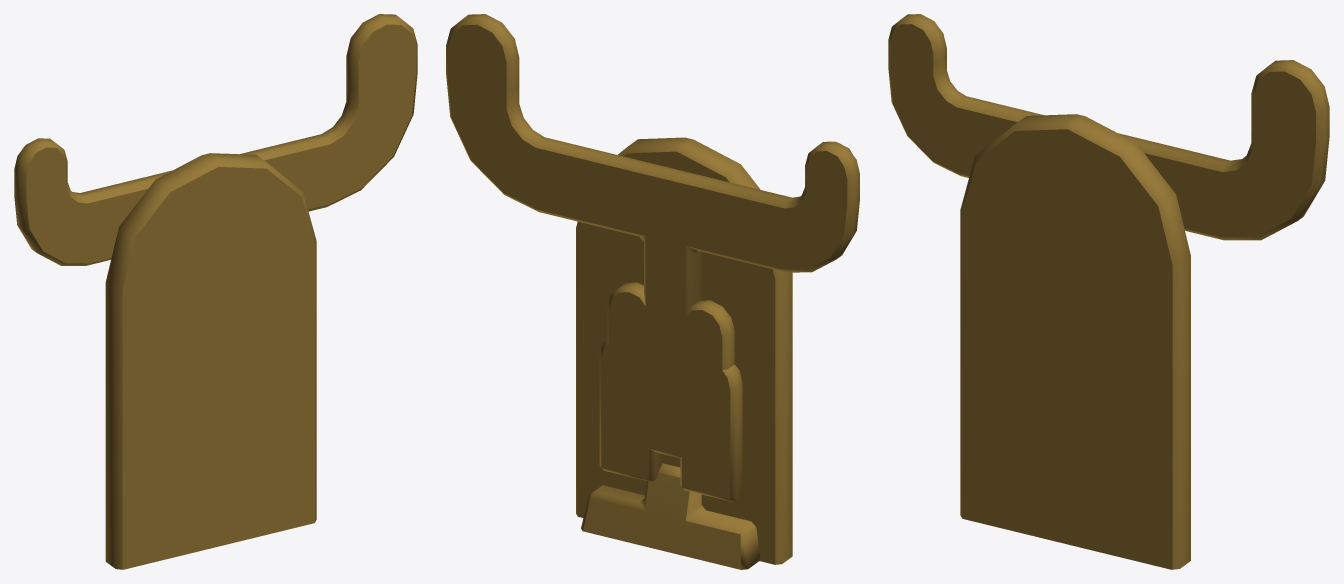
Rendered from Cactuses.fbx.
The picture shows the model from 3 angles, left to right: view 1: azimuth 30°, elevation 25°; view 2: azimuth 150°, elevation 25°; view 3: azimuth 330°, elevation 25°; orthographic projection. The views are drawn at different scales.
Parts seen in each view (by area): view 1: Cactus_cover_big, Cactus_cover_big2; view 2: Cactus_cover_big, Cactus_cover_small, Cactus_cover_small2; view 3: Cactus_cover_big, Cactus_cover_big2.
Boxes of the visible parts, x1,y1,x2,y2 form: Cactus_cover_big: (14,14,417,569); Cactus_cover_big2: (27,148,259,277); Cactus_cover_big: (446,14,859,569); Cactus_cover_small: (599,300,745,516); Cactus_cover_small2: (602,282,750,520); Cactus_cover_big: (888,14,1329,569); Cactus_cover_big2: (890,24,1170,259).
Bounding box in the file's own units: 90.84 × 103 × 11.82.
